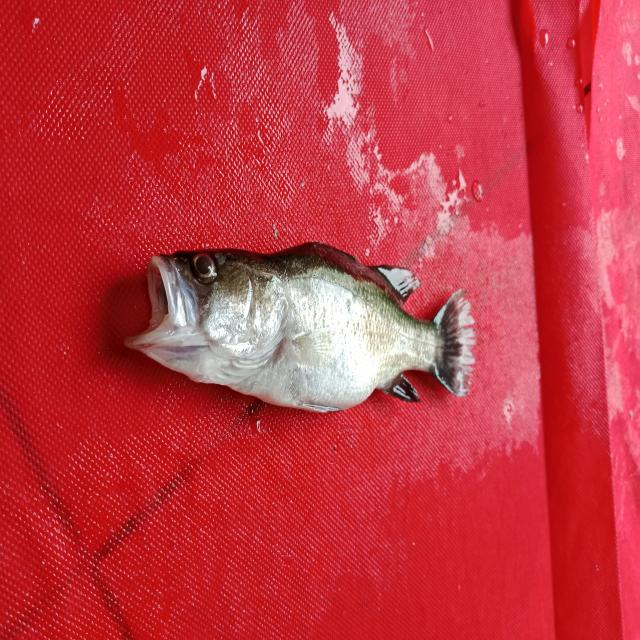ikan: (105, 198, 510, 444)
